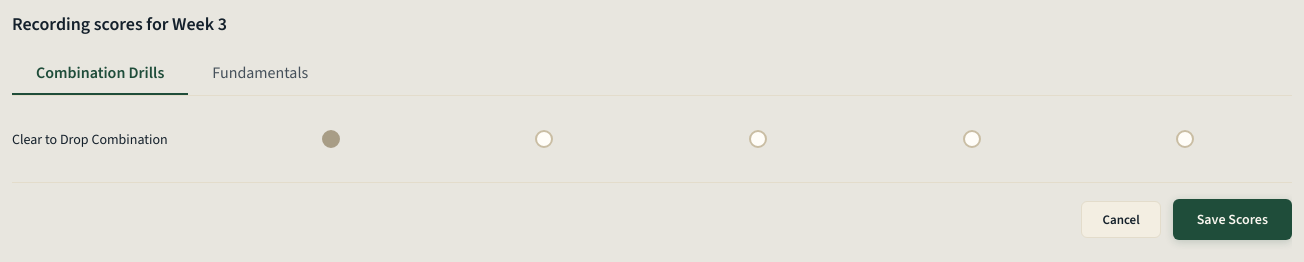
Test: SkillScoreInput › shows a validation error when saving with nothing scored
Click the button with test id "save-scores-button".
click(1232, 220)  # box [1173,199,1292,240]
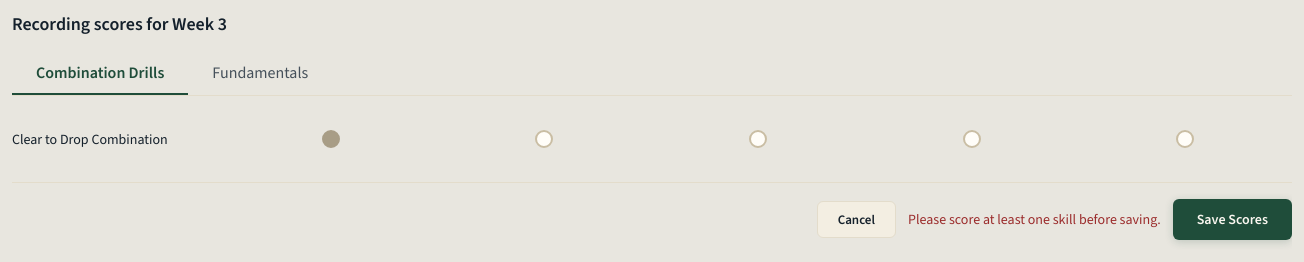
Expected: the text "Please score at least one skill before saving." is shown, [908,209,1161,230]
